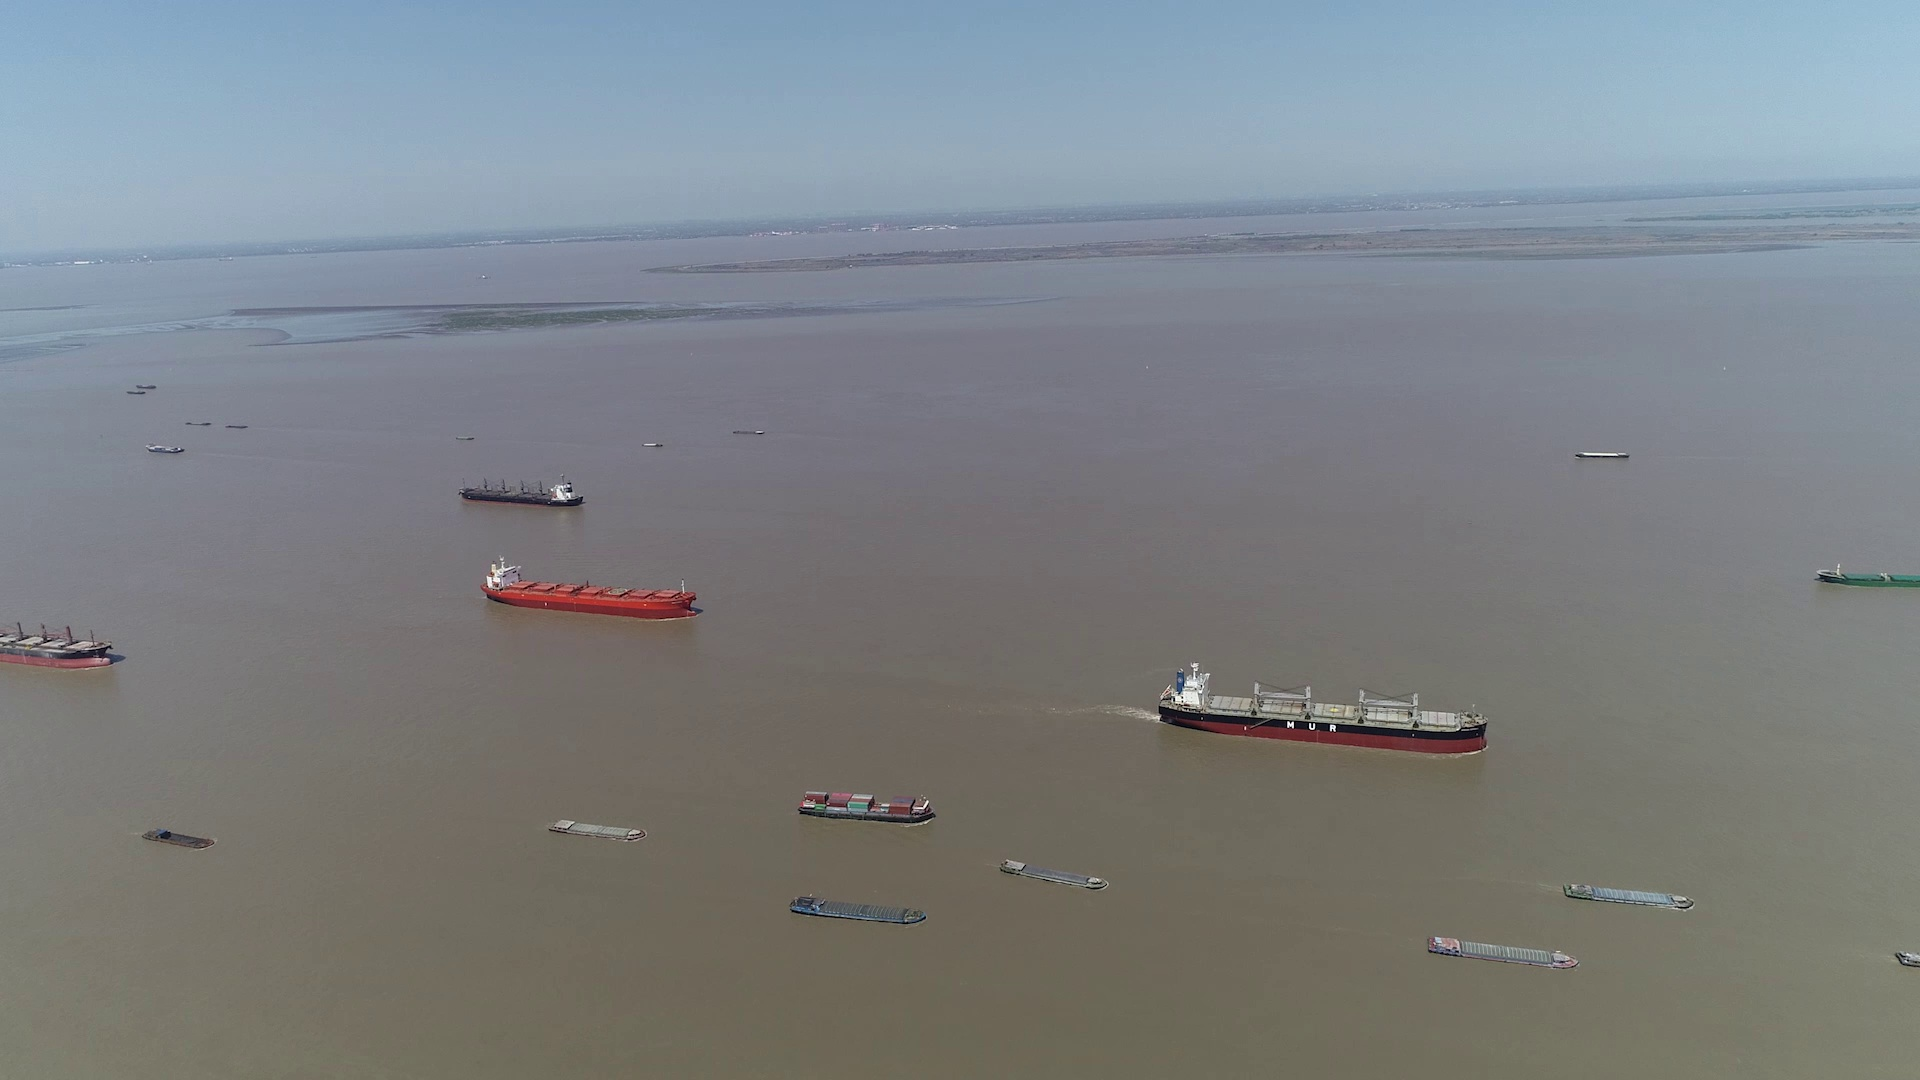ship: (1159, 663, 1489, 754), (484, 555, 698, 618), (1, 605, 117, 670), (1428, 935, 1576, 968), (793, 893, 931, 926), (796, 790, 934, 823), (1563, 881, 1692, 911), (459, 476, 584, 506), (998, 857, 1109, 891), (551, 818, 647, 841), (1815, 566, 1917, 587), (142, 828, 215, 851), (1894, 949, 1919, 972), (1577, 450, 1629, 459), (149, 444, 186, 455)
